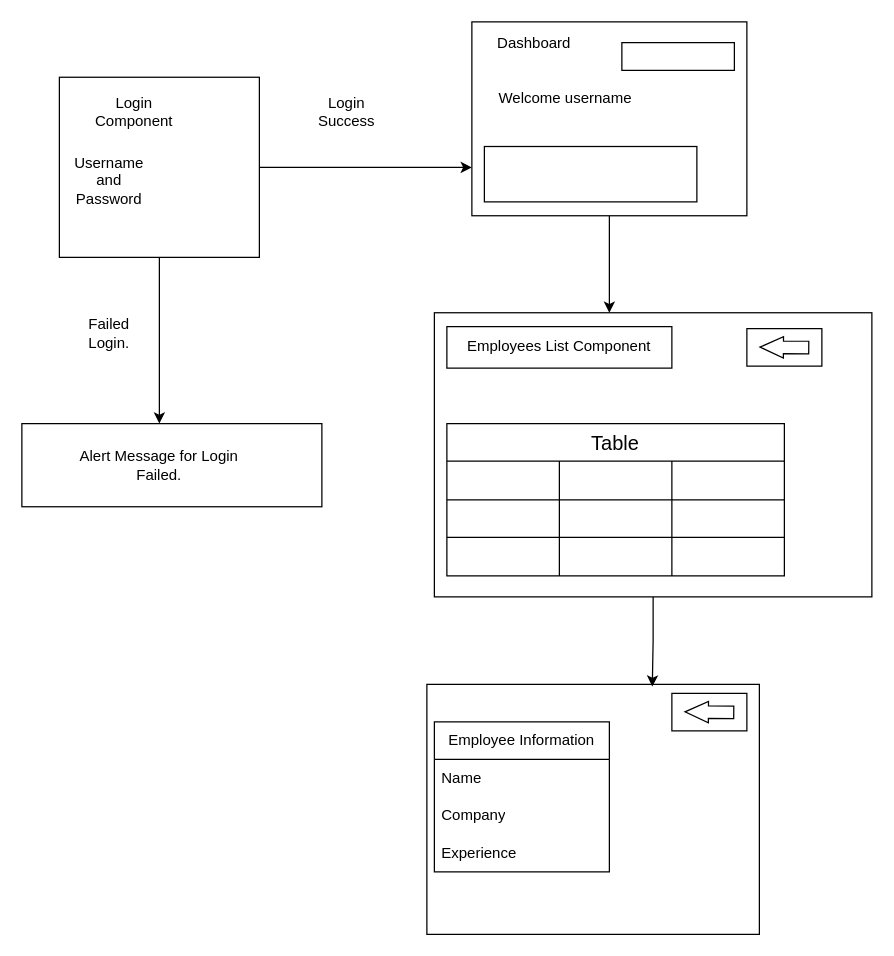
Image size: 894x956. Some labels were removed from this diagram. Each missing label, with the centre of its shape:
Option to Display Emp Data: the point at 590,173
Sign out.: the point at 677,55
